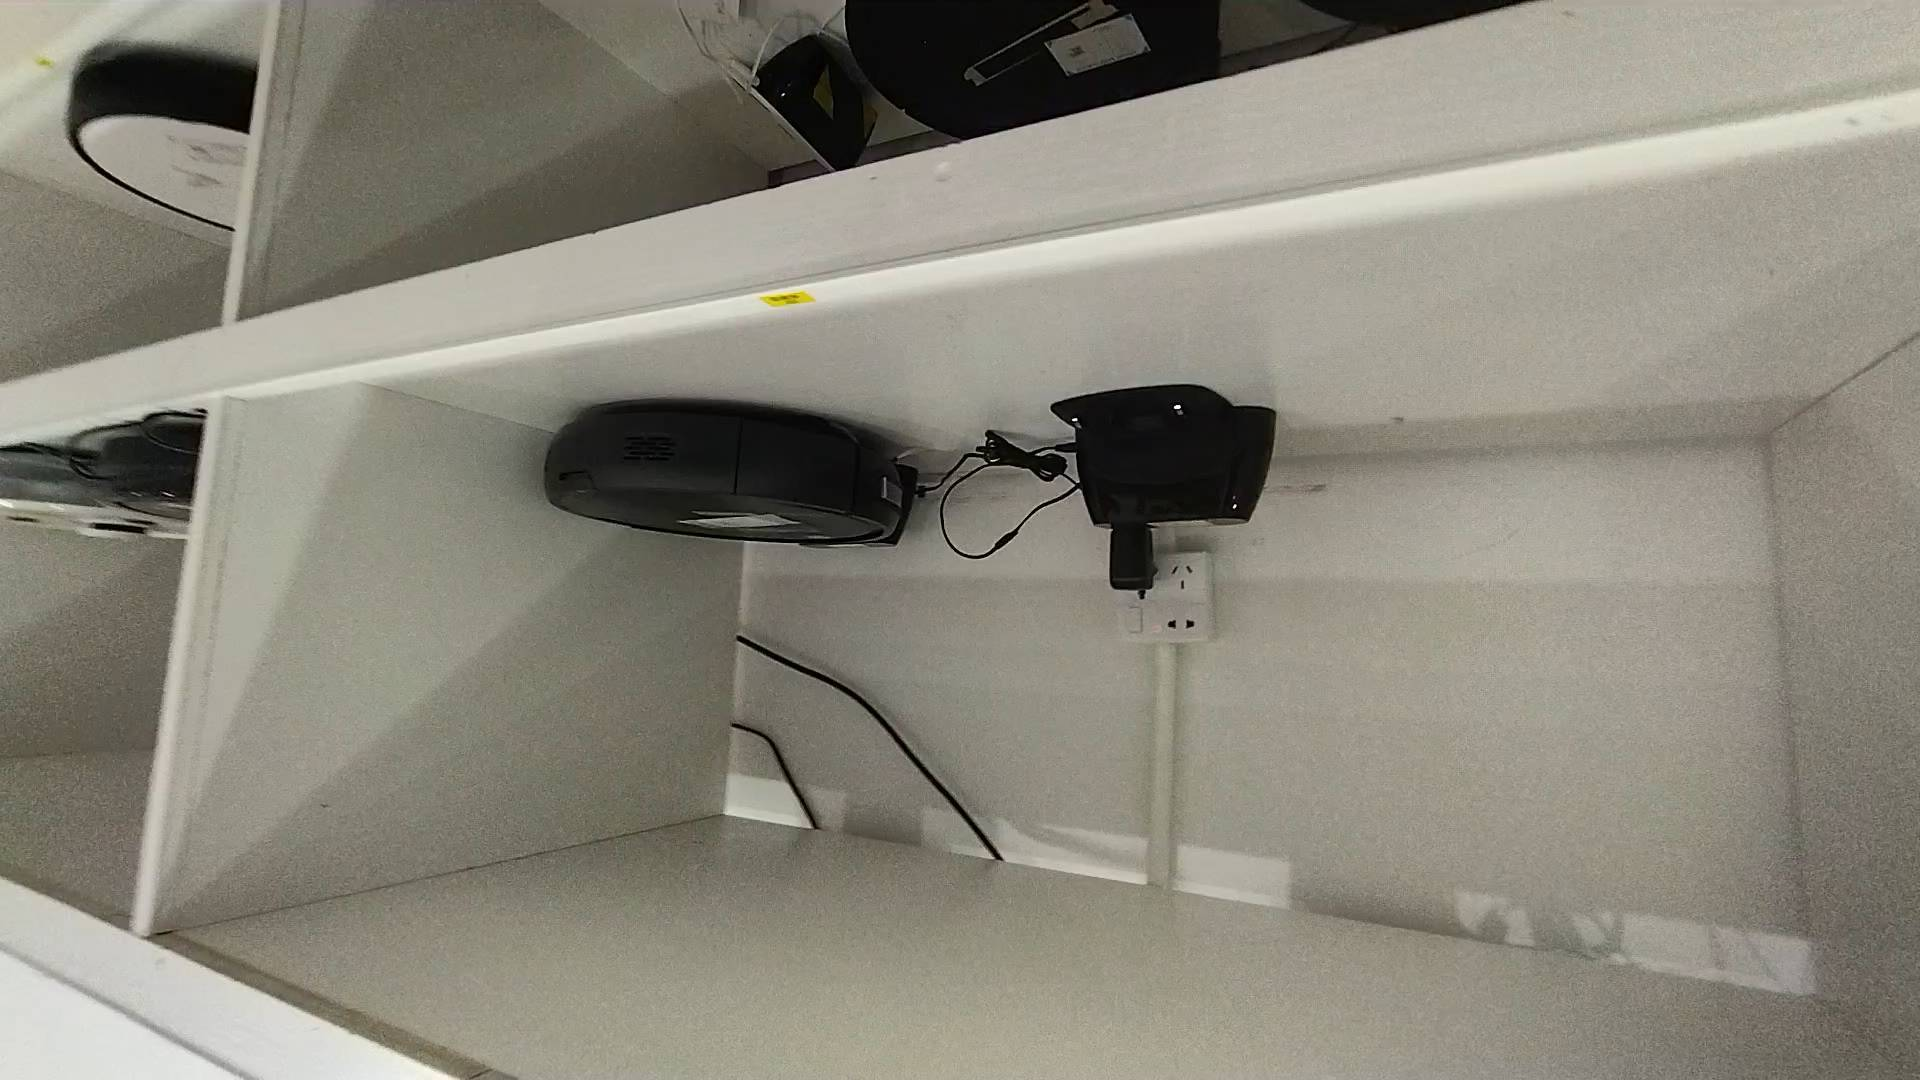recharge seat: (1054, 386, 1280, 525)
